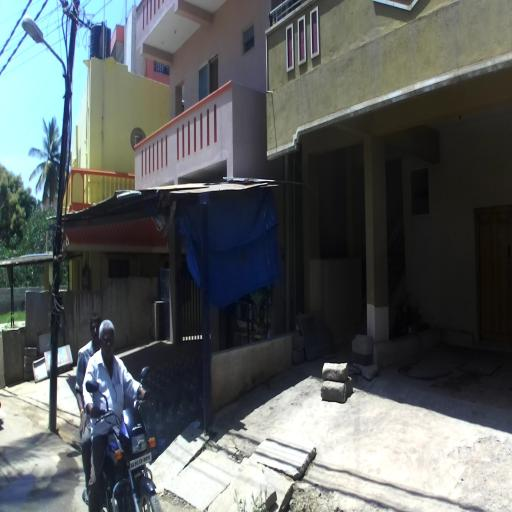street_light_0: (21, 18, 71, 109)
